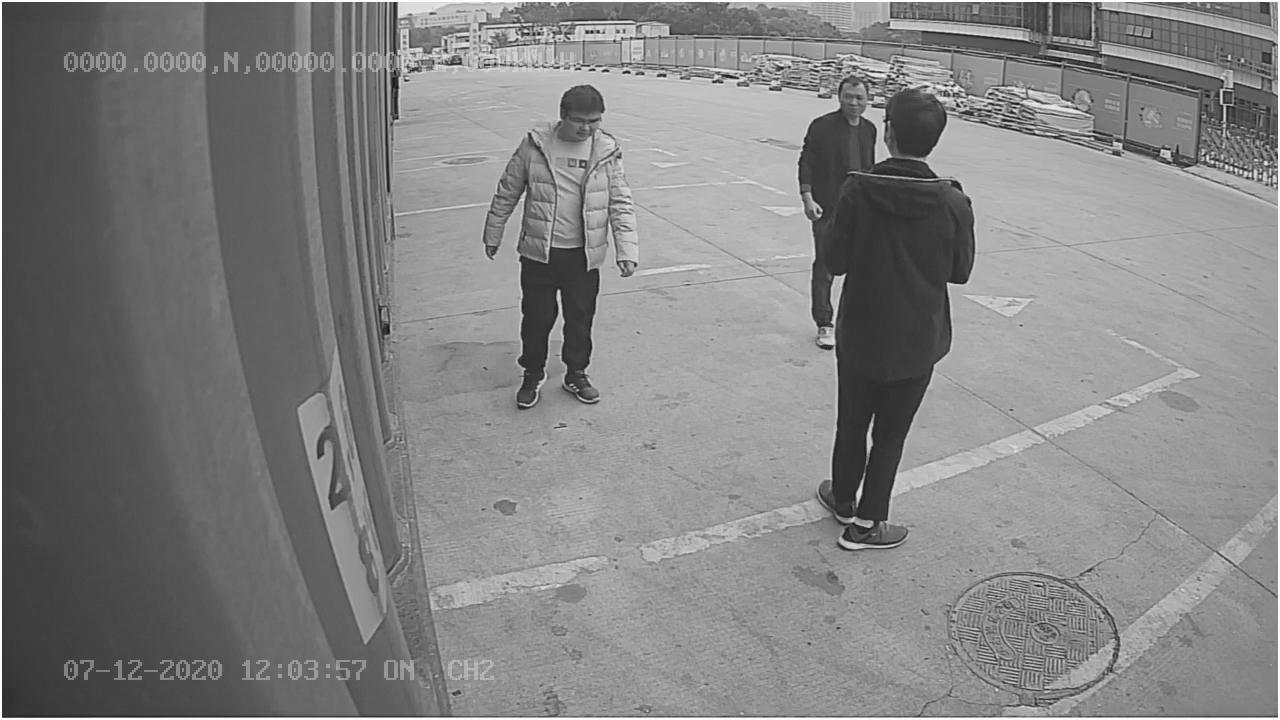person: (482, 66, 639, 408)
